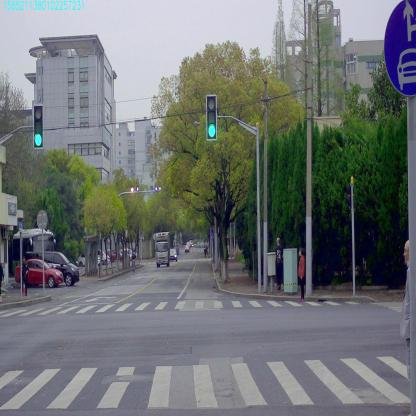traffic-light: (206, 95, 216, 140), (33, 105, 43, 148)
